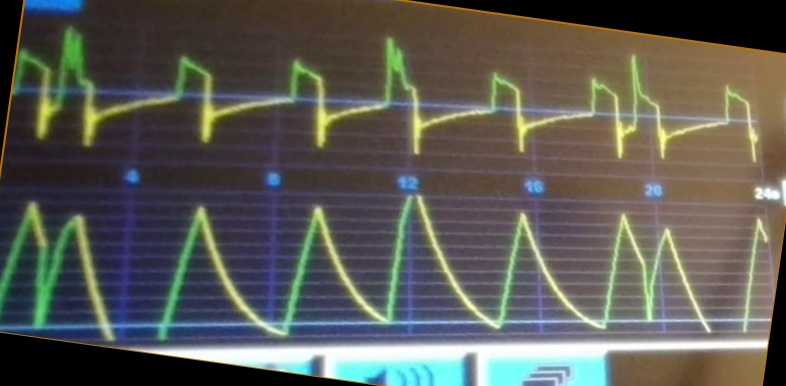Double_Triggering Flow: (12, 25, 708, 166)
Double_Triggering Volume: (1, 193, 713, 338)
